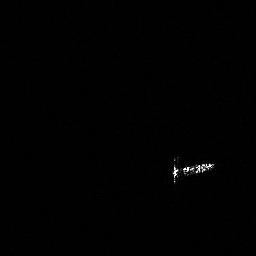ship: (170, 157, 216, 185)
